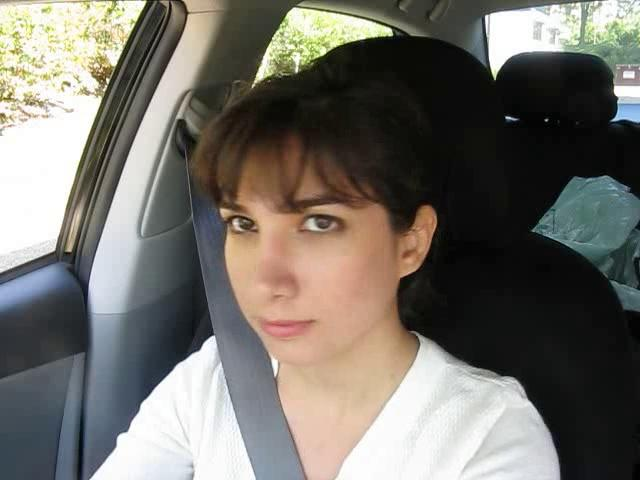no_yawn: (237, 306, 330, 350)
open_eyeL: (218, 208, 264, 245)
open_eyeR: (285, 203, 356, 245)
